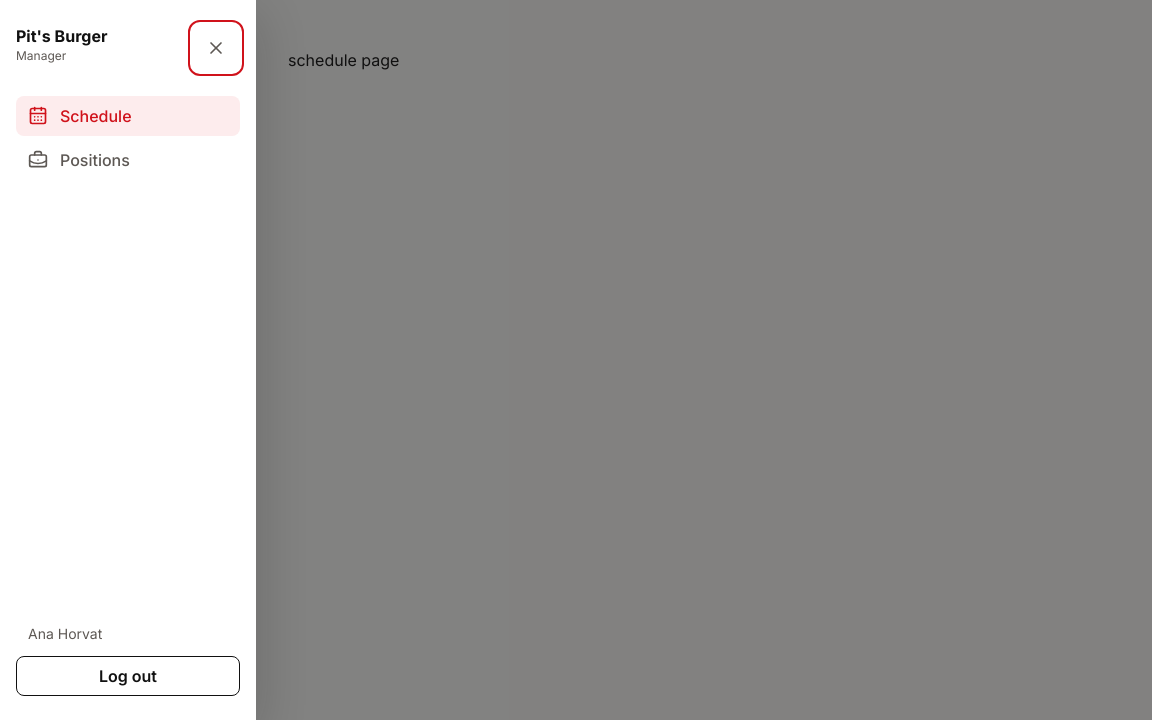
Test: DashboardLayout › menu on small screens › goes to the clicked page and closes
Earlier steps of the test are not shown.
Click the link "Positions": [79, 160] box [28,150,130,170]
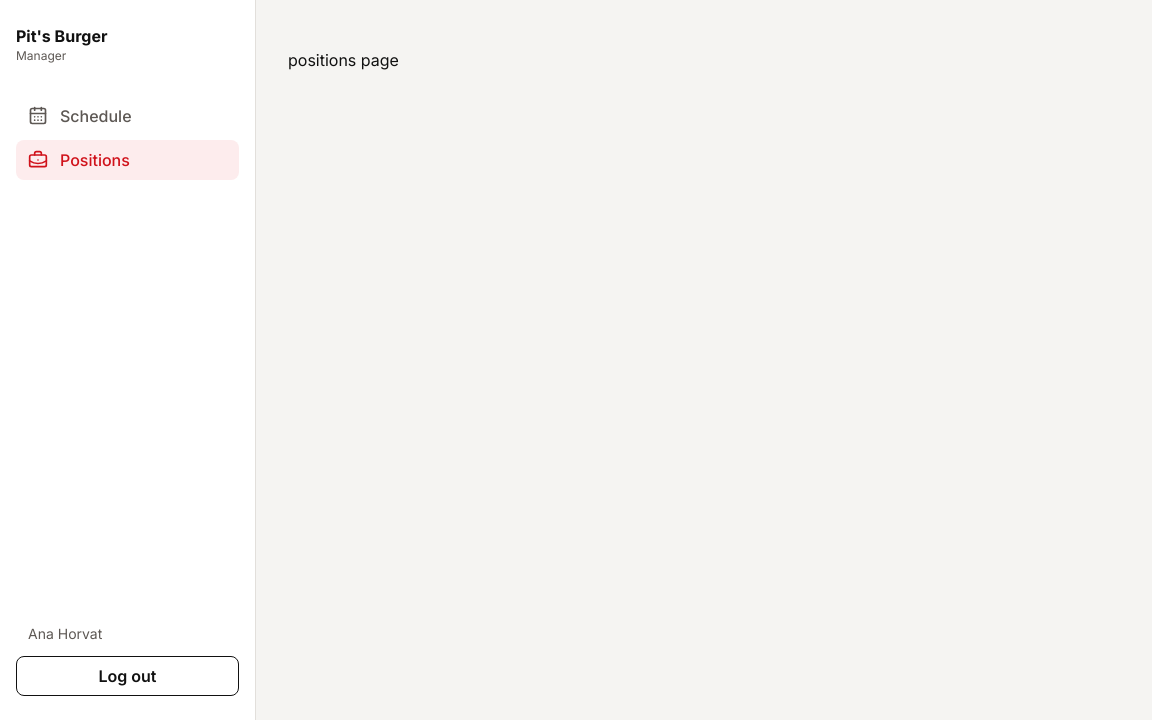
Expected: the text "positions page" is shown, [288,50,399,70]
Expected: the dialog is gone
